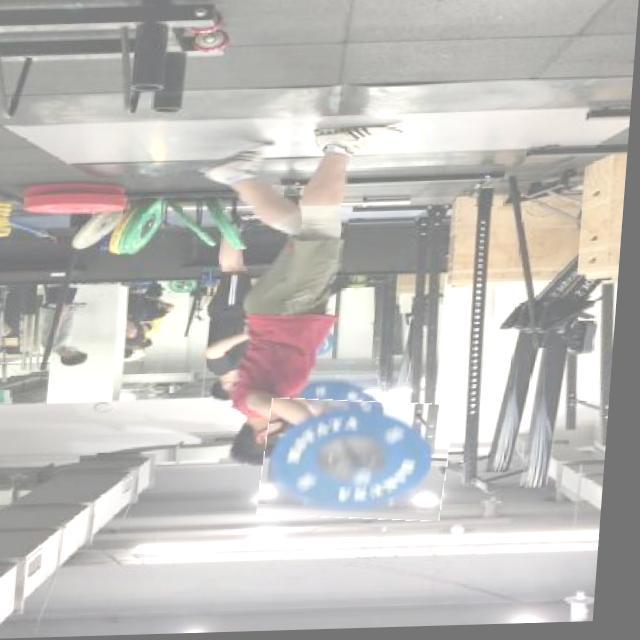barbell: (266, 400, 461, 526)
